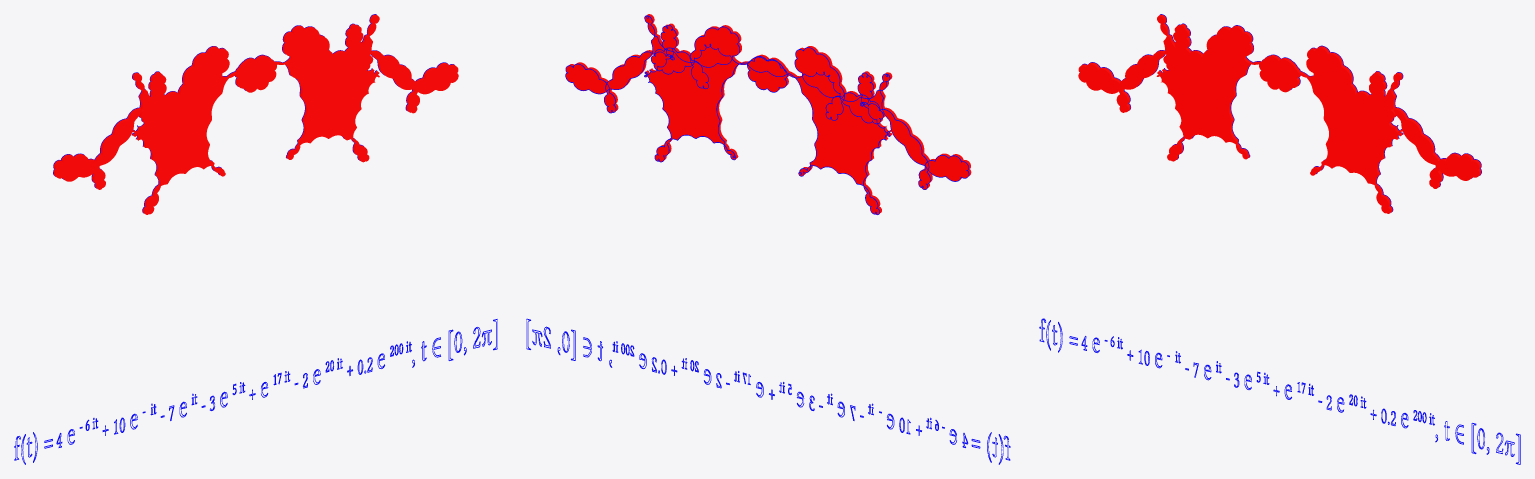
Rendered from SimpleBeauty65.glb.
3 views of the same model, side by side, from view 1: azimuth 30°, elevation 25°; view 2: azimuth 150°, elevation 25°; view 3: azimuth 330°, elevation 25° (orthographic).
Size of the model in its own units: 1.2 by 0.8826 by 0.0109.
